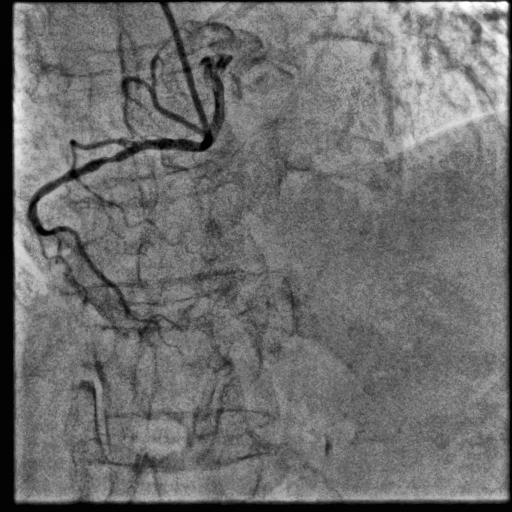rca: (28, 132, 215, 356)
